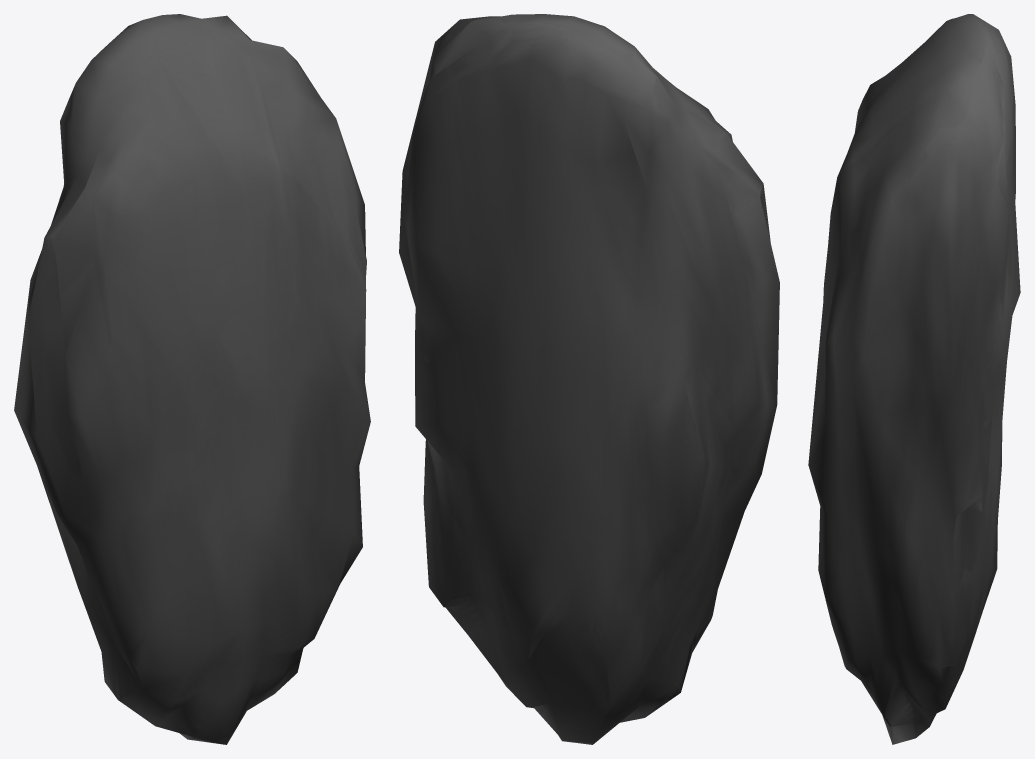
Rendered from Monolith.fbx.
The picture shows the model from 3 angles, left to right: view 1: azimuth 30°, elevation 25°; view 2: azimuth 150°, elevation 25°; view 3: azimuth 270°, elevation 25°; orthographic projection. The views are drawn at different scales.
Visible parts, largest first — view 1: Cube; view 2: Cube; view 3: Cube.
Part boxes in pixels (left/top/right/bottom): Cube: left=14, top=14, right=370, bottom=744; Cube: left=399, top=14, right=779, bottom=744; Cube: left=808, top=14, right=1020, bottom=744.
Size of the model in its own units: 364 by 745 by 203.
1 material, 1 textured.
